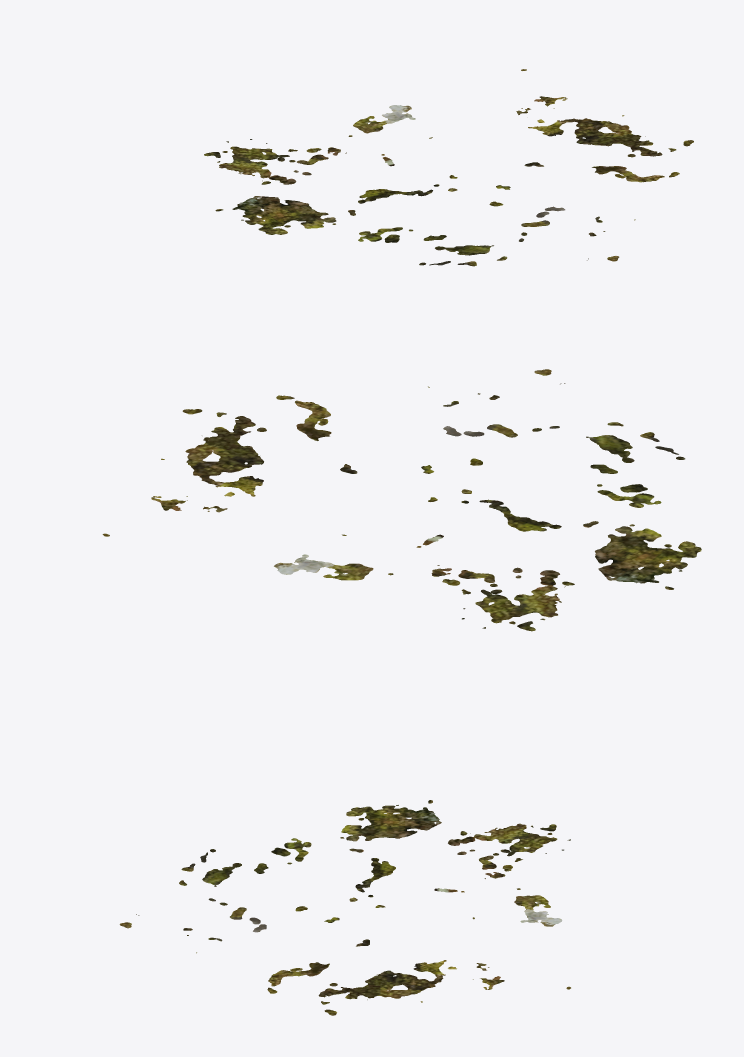
Rendered from moss_float02.dae.
3 renders of one model, top to bottom at view 1: azimuth 30°, elevation 25°; view 2: azimuth 150°, elevation 25°; view 3: azimuth 270°, elevation 25°, orthographic. The views are drawn at different scales.
Visible parts, largest first — view 1: 02; view 2: 02; view 3: 02.
Part boxes in pixels (bbox=[...]): 02: bbox=[204, 69, 693, 266]; 02: bbox=[102, 369, 701, 631]; 02: bbox=[119, 800, 570, 1015].
Size of the model in its own units: 1.64 by 0 by 1.83.
